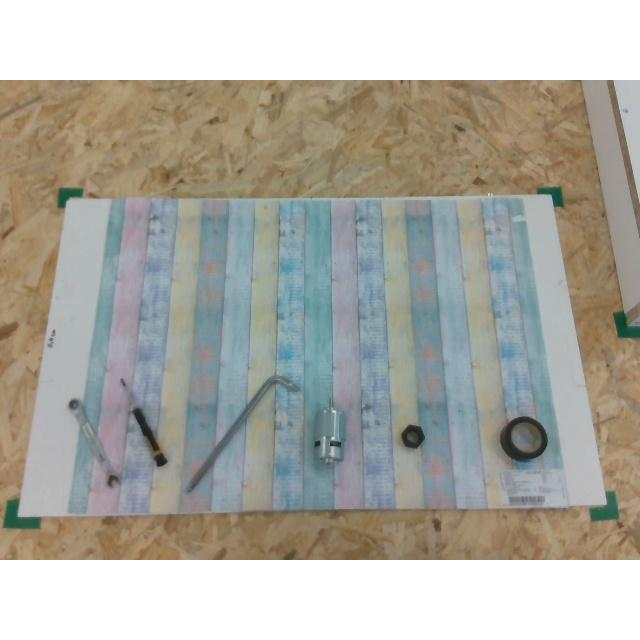AllenKey: (187, 374, 299, 491)
M20: (401, 424, 424, 448)
Motor2: (314, 398, 346, 466)
Wrench: (68, 398, 120, 486)
